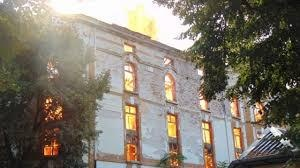fire: (40, 94, 64, 120), (40, 127, 61, 156), (162, 71, 174, 102)
